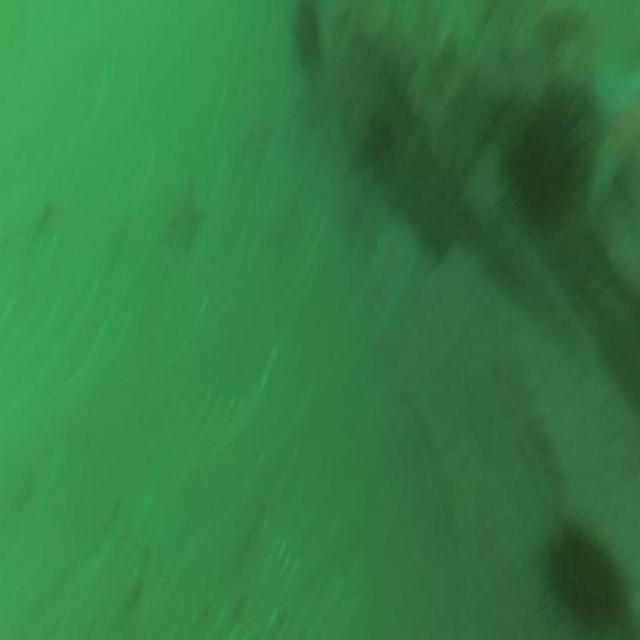echinus: (505, 80, 587, 238), (542, 518, 631, 638), (291, 1, 321, 64), (365, 108, 393, 172)
